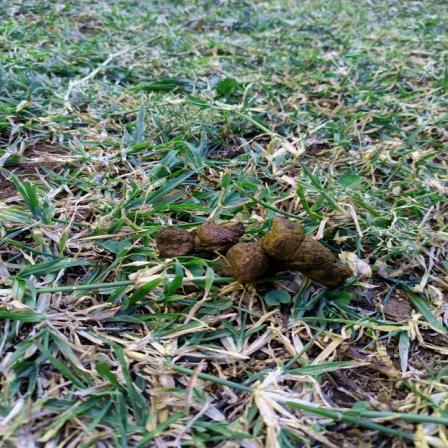dog-poop: (152, 207, 348, 291)
